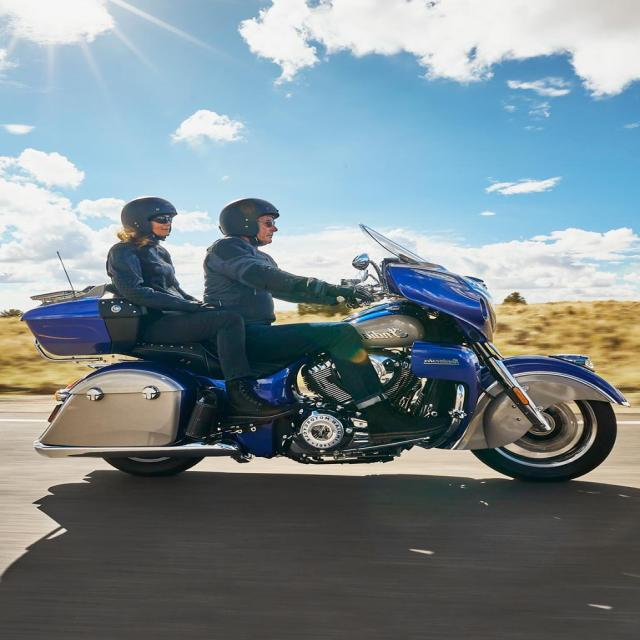motorcycle: (22, 198, 627, 481)
